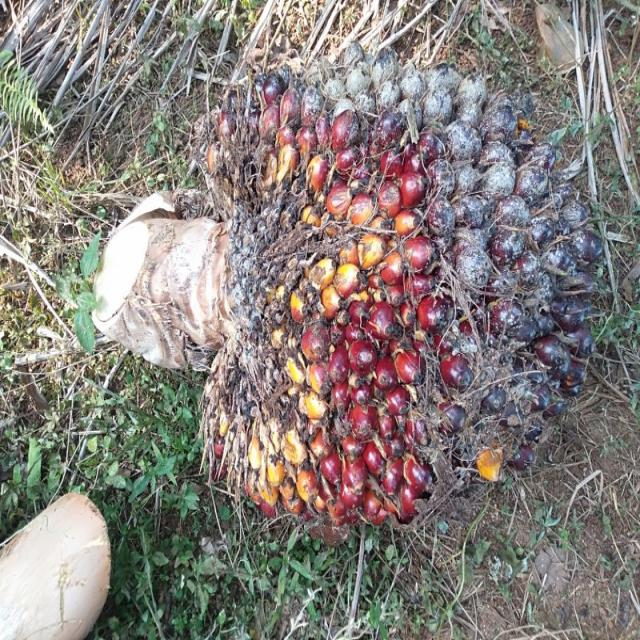fraksi 1: (125, 45, 617, 620)
